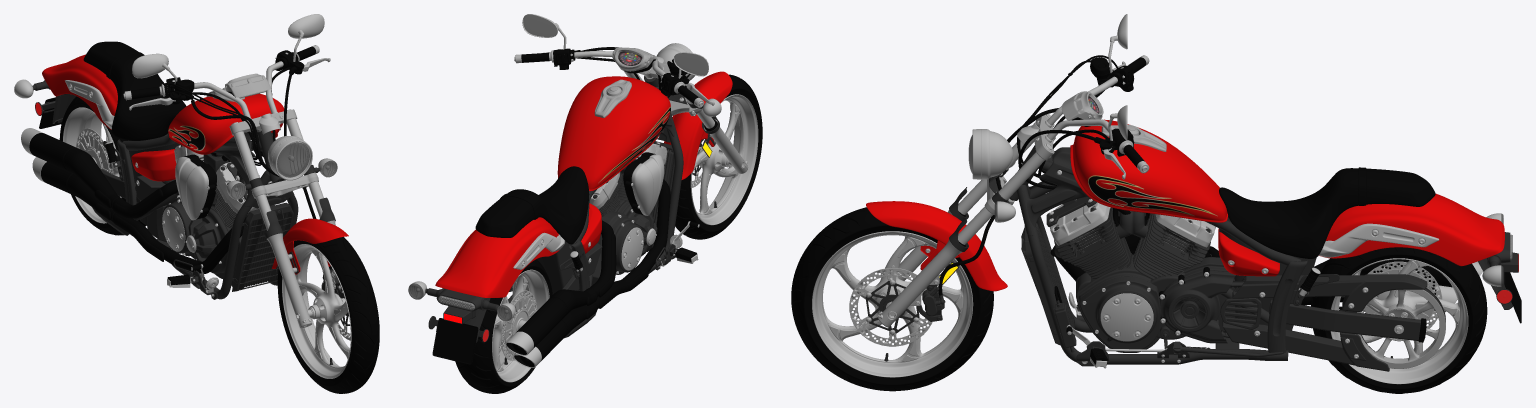
Rendered from yamaha_stryker__3d_motorcycle_model.glb.
The picture shows the model from 3 angles, left to right: view 1: azimuth 30°, elevation 25°; view 2: azimuth 150°, elevation 25°; view 3: azimuth 270°, elevation 25°; orthographic projection. The views are drawn at different scales.
Visible parts, largest first — view 1: Plane52_1, gum_1, body_1, rama_1, Tube42_1, Plane04_1, Cylinder22_1, body01_1, Cylinder15_1, Box05_1, Box01_1, Line04_1 (+24 smaller); view 2: body_1, body01_1, Plane52_1, Plane04_1, Tube42_1, Cylinder22_1, rama_1, gum_1, gum_3, Tube46_1, Cylinder15_1, Box01_1 (+20 smaller); view 3: rama_1, body_1, Cylinder15_1, Plane04_1, gum_1, Tube42_1, body01_1, Cylinder22_1, Plane48_1, gum_3, Tube46_1, Object120_1_black_m_0 (+23 smaller).
Part boxes in pixels (x1,y1,x2,y2): Plane52_1: (29, 133, 246, 273); gum_1: (277, 237, 379, 393); body_1: (42, 54, 348, 274); rama_1: (99, 130, 298, 299); Tube42_1: (282, 244, 351, 378); Plane04_1: (83, 41, 186, 140); Cylinder22_1: (21, 80, 312, 293); body01_1: (168, 93, 284, 154); Cylinder15_1: (162, 157, 274, 278); Box05_1: (232, 202, 293, 291); Box01_1: (123, 14, 324, 100); Line04_1: (168, 67, 332, 269); body_1: (435, 71, 732, 297); body01_1: (557, 76, 670, 191); Plane52_1: (516, 179, 670, 360); Plane04_1: (475, 166, 589, 244); Tube42_1: (690, 94, 758, 225); Cylinder22_1: (505, 143, 699, 367); rama_1: (509, 75, 683, 291); gum_1: (675, 74, 762, 239); gum_3: (455, 259, 552, 393); Tube46_1: (492, 269, 549, 382); Cylinder15_1: (598, 157, 665, 274); Box01_1: (514, 14, 708, 107); rama_1: (1009, 145, 1420, 366); body_1: (866, 193, 1504, 291); Cylinder15_1: (1054, 207, 1228, 352); Plane04_1: (1219, 167, 1435, 258); gum_1: (791, 207, 993, 391); Tube42_1: (812, 231, 973, 377); body01_1: (1070, 119, 1227, 222); Cylinder22_1: (1049, 199, 1482, 368); Plane48_1: (1220, 274, 1427, 371); gum_3: (1311, 247, 1487, 393); Tube46_1: (1330, 258, 1468, 384); Object120_1_black_m_0: (1160, 270, 1235, 343).
Size of the model in its own units: 1.08 by 1.43 by 2.9.
Materials: 11 (2 with a texture image).
